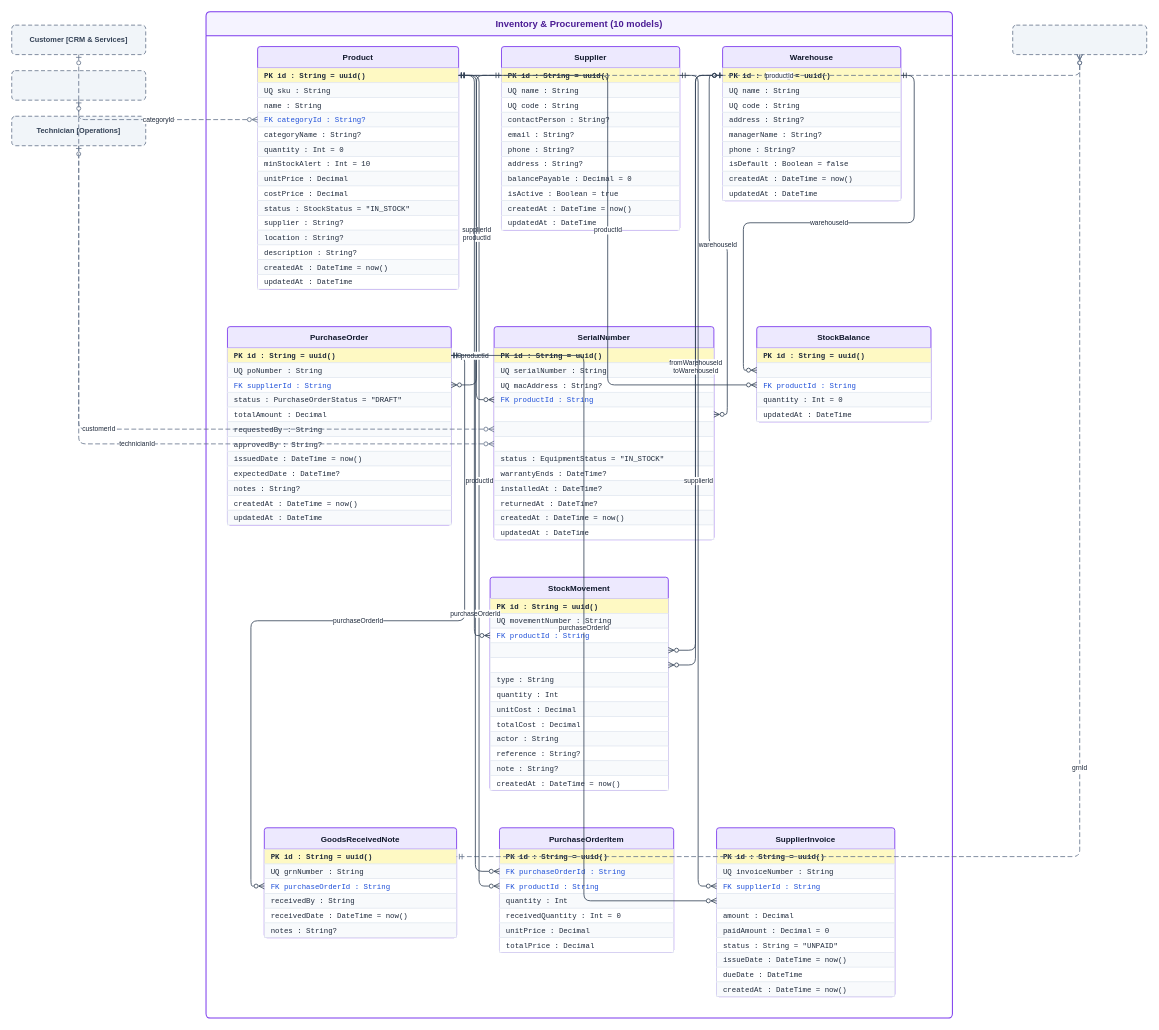
This 1159x1030 diagram has some shape labels left out. The centre of each missing label's shape, as x and y in pixels:
"FK customerId : String?" goes at point 603,429.
"FK fromWarehouseId : String?" goes at point 578,650.
"FK purchaseOrderId : String?" goes at point 805,900.
"FK technicianId : String?" goes at point 603,443.
"FK toWarehouseId : String?" goes at point 578,664.
"FK warehouseId : String" goes at point 843,370.
"FK warehouseId : String?" goes at point 603,414.
"GoodsReceivedItem [Other]" goes at point 1079,39.
"ProductCategory [Other]" goes at point 78,85.
